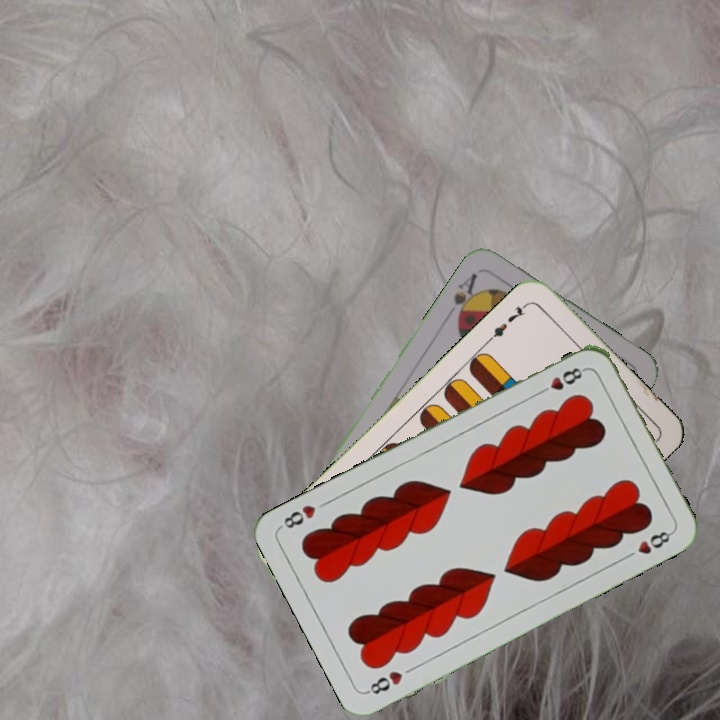E7: (484, 298, 531, 344)
H8: (534, 363, 588, 398), (363, 666, 405, 697)
SA: (449, 268, 483, 325)
